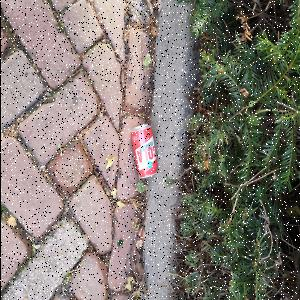Can: (130, 121, 160, 183)
